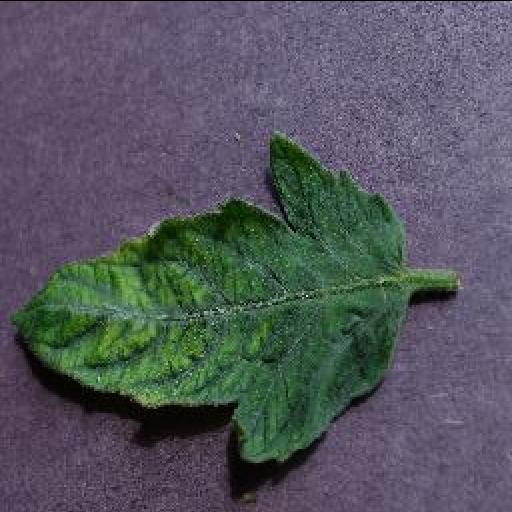disease_tomato: (9, 129, 411, 463)
